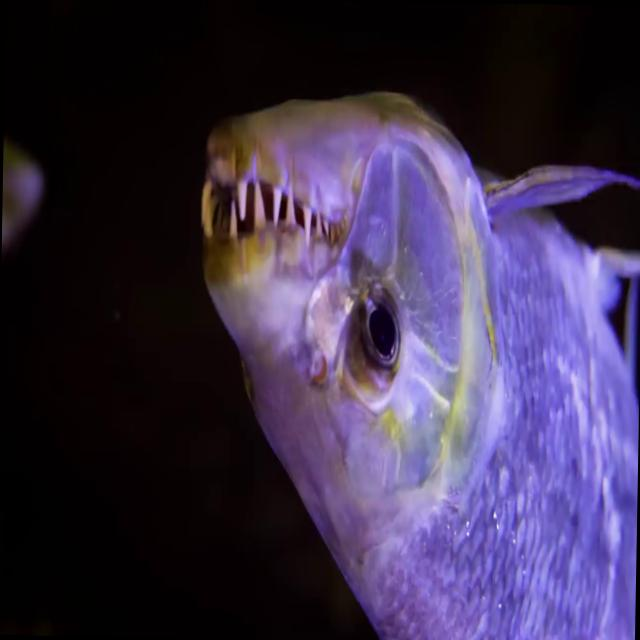fish: (190, 75, 640, 640)
